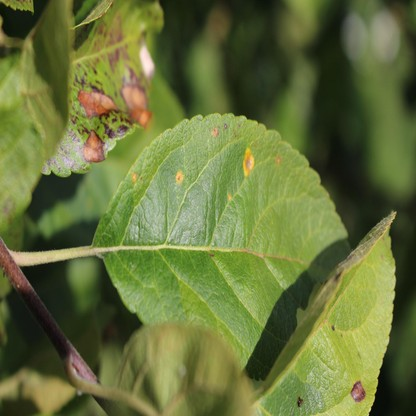rust: (119, 85, 151, 130), (78, 89, 119, 118), (83, 130, 105, 162), (242, 146, 254, 175), (351, 381, 365, 401), (176, 168, 185, 185), (212, 125, 218, 136), (227, 191, 233, 201), (131, 171, 135, 181), (277, 156, 281, 163)
